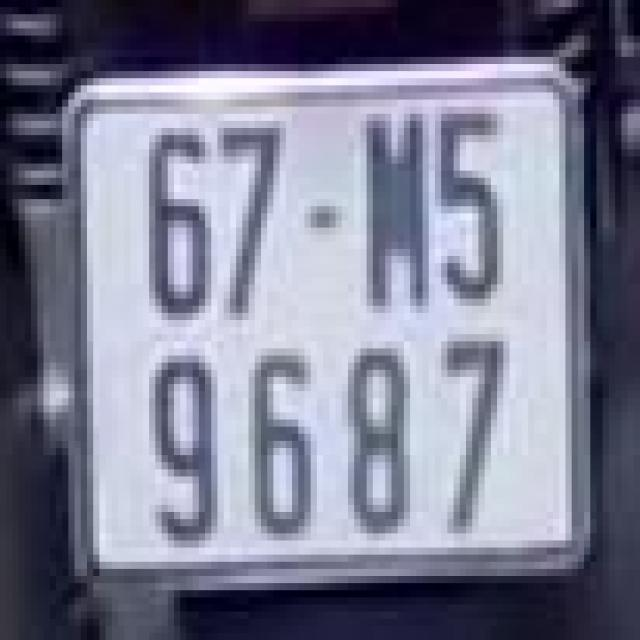5: (432, 92, 519, 306)
6: (242, 338, 323, 537), (140, 124, 220, 323)
7: (208, 114, 295, 320), (441, 327, 516, 526)
8: (338, 342, 426, 540)
9: (137, 334, 236, 555)
M: (354, 89, 435, 316)
